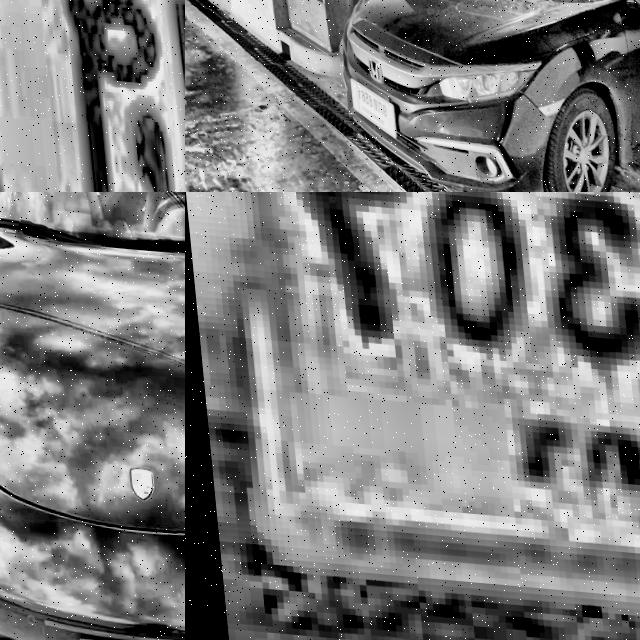license-plate: (193, 192, 640, 622), (0, 0, 185, 192), (342, 70, 392, 137)
